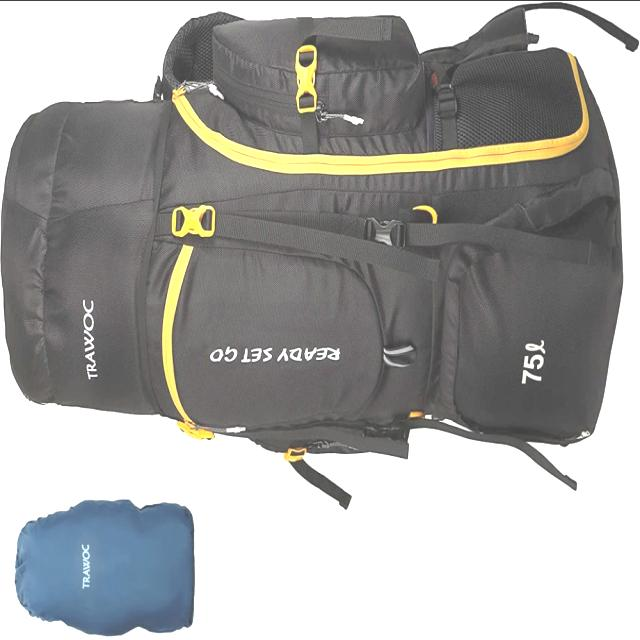backpack: (2, 4, 637, 509)
